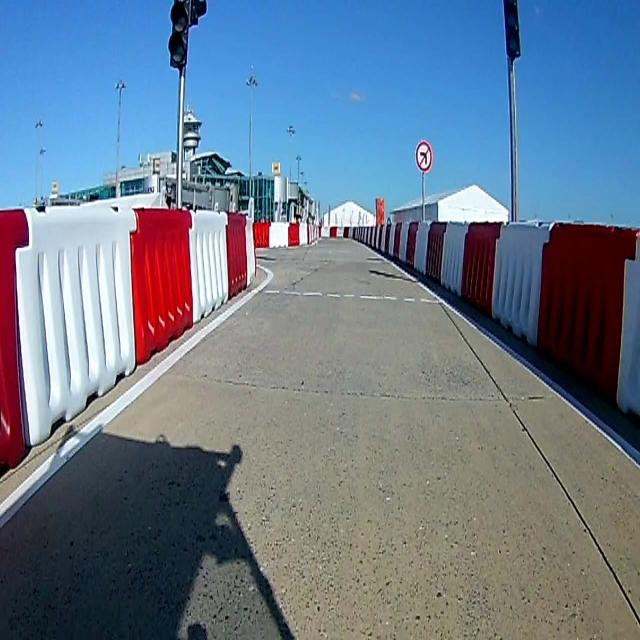soladonulmez: (414, 138, 434, 174)
